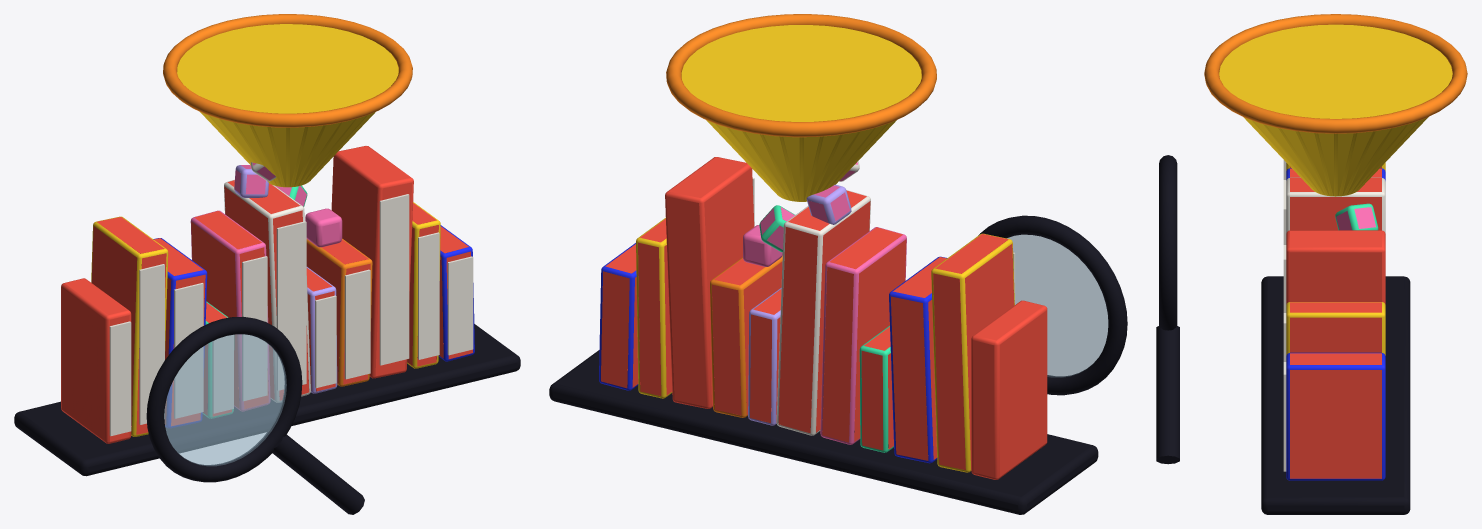
The model's file is library.glb.
The picture shows the model from 3 angles, left to right: view 1: azimuth 30°, elevation 25°; view 2: azimuth 150°, elevation 25°; view 3: azimuth 270°, elevation 25°; orthographic projection. The views are drawn at different scales.
Parts seen in each view (by area): view 1: books, funnel, bob_lens, base, bob_chunks; view 2: books, funnel, base, bob_lens, bob_chunks; view 3: funnel, books, base, bob_lens, bob_chunks.
Boxes of the visible parts, x1=… form: books: x1=61, y1=146, x2=474, y2=443; funnel: x1=163, y1=14, x2=412, y2=187; bob_lens: x1=146, y1=316, x2=364, y2=514; base: x1=14, y1=324, x2=520, y2=476; bob_chunks: x1=234, y1=162, x2=342, y2=247; books: x1=599, y1=157, x2=1047, y2=479; funnel: x1=666, y1=14, x2=936, y2=201; base: x1=549, y1=350, x2=1098, y2=514; bob_lens: x1=978, y1=215, x2=1127, y2=395; bob_chunks: x1=743, y1=161, x2=859, y2=266; funnel: x1=1204, y1=14, x2=1467, y2=196; books: x1=1283, y1=160, x2=1385, y2=480; base: x1=1261, y1=276, x2=1410, y2=514; bob_lens: x1=1156, y1=155, x2=1179, y2=464; bob_chunks: x1=1335, y1=203, x2=1378, y2=230.
Size of the model in its own units: 8.6 by 7.23 by 5.01.
